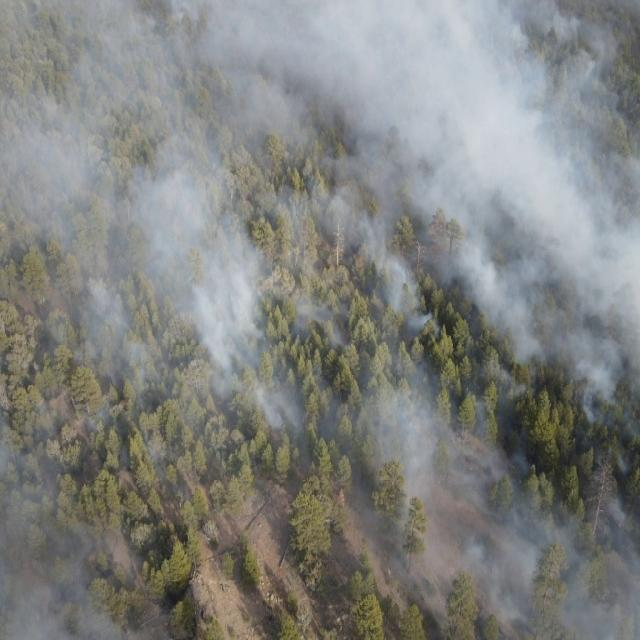fire: (116, 398, 132, 414), (352, 248, 364, 268), (615, 518, 624, 530)
smoke: (0, 0, 640, 336), (343, 442, 640, 640), (150, 338, 640, 446), (0, 333, 151, 639)
